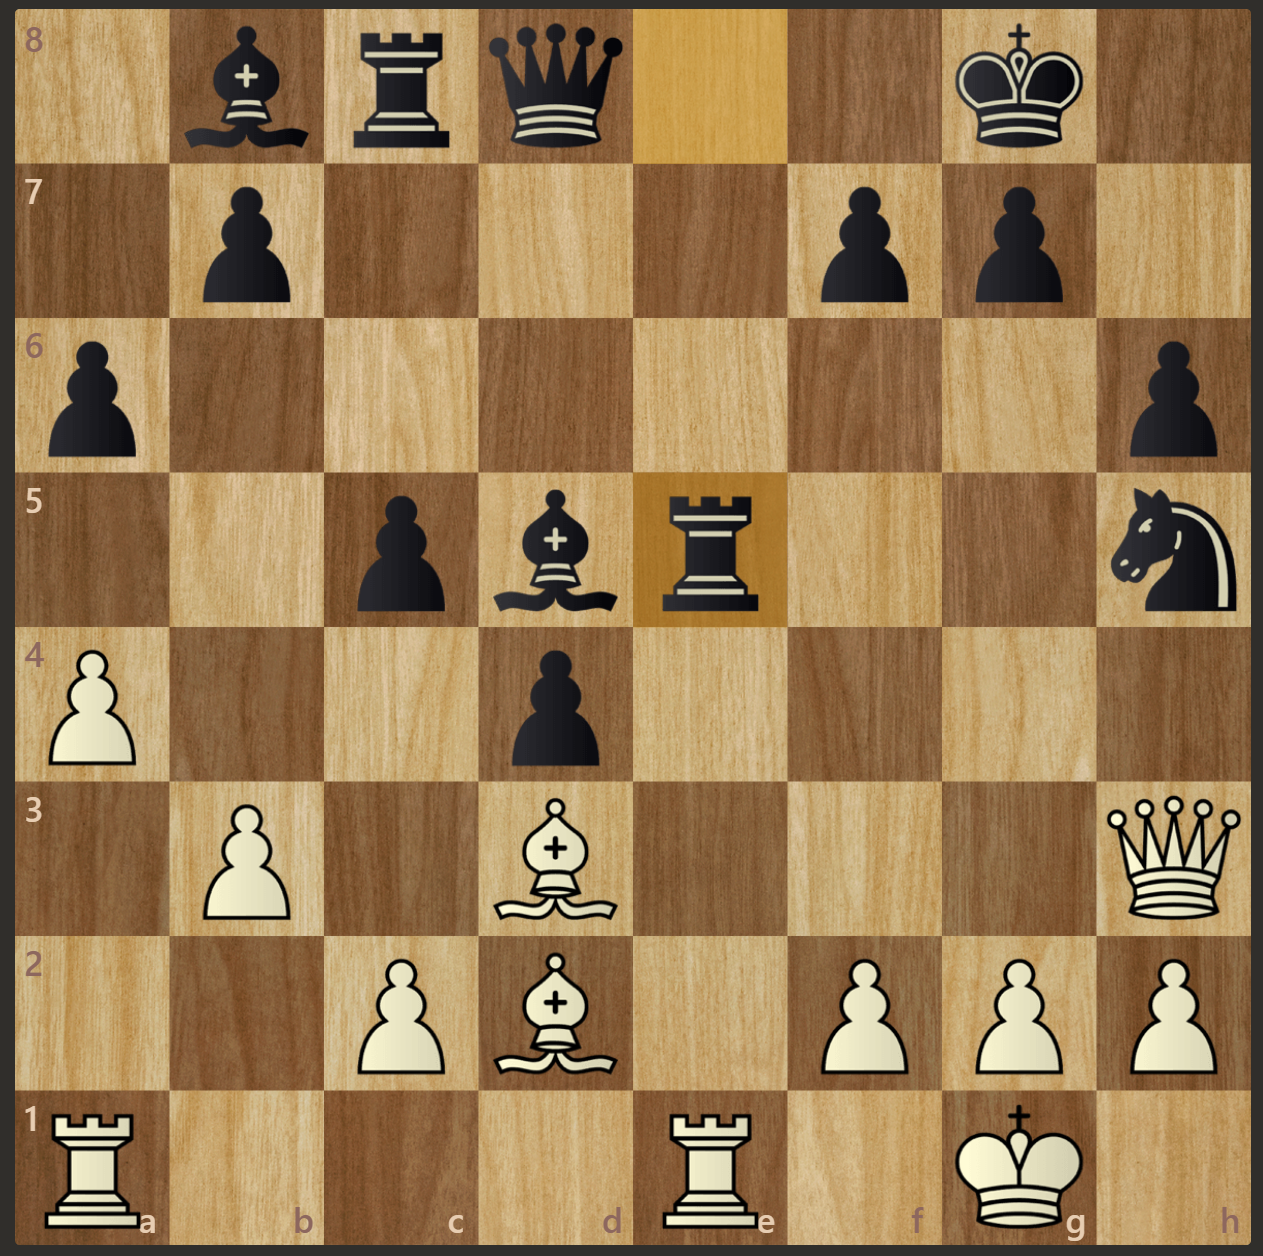beyaz_fil: (491, 941, 629, 1083), (487, 792, 623, 922)
beyaz_kale: (642, 1098, 779, 1238), (23, 1098, 153, 1236)
beyaz_piyon: (332, 941, 466, 1083), (948, 941, 1081, 1083), (178, 788, 313, 927), (1108, 945, 1243, 1082), (799, 945, 927, 1082), (28, 633, 153, 769)
beyaz_sah: (952, 1100, 1094, 1240)
beyaz_vezir: (1103, 784, 1245, 927)
siyah_at: (1103, 472, 1250, 616)
siyah_fil: (487, 478, 629, 616), (178, 14, 313, 148)
siyah_kale: (644, 480, 782, 621), (331, 16, 469, 155)
siyah_piyon: (23, 324, 160, 464), (185, 173, 316, 311), (952, 176, 1092, 306), (492, 640, 626, 772), (804, 176, 932, 311), (1113, 327, 1238, 464), (339, 482, 462, 616)
siyah_sah: (946, 12, 1088, 156)
siyah_vezir: (482, 14, 623, 155)
